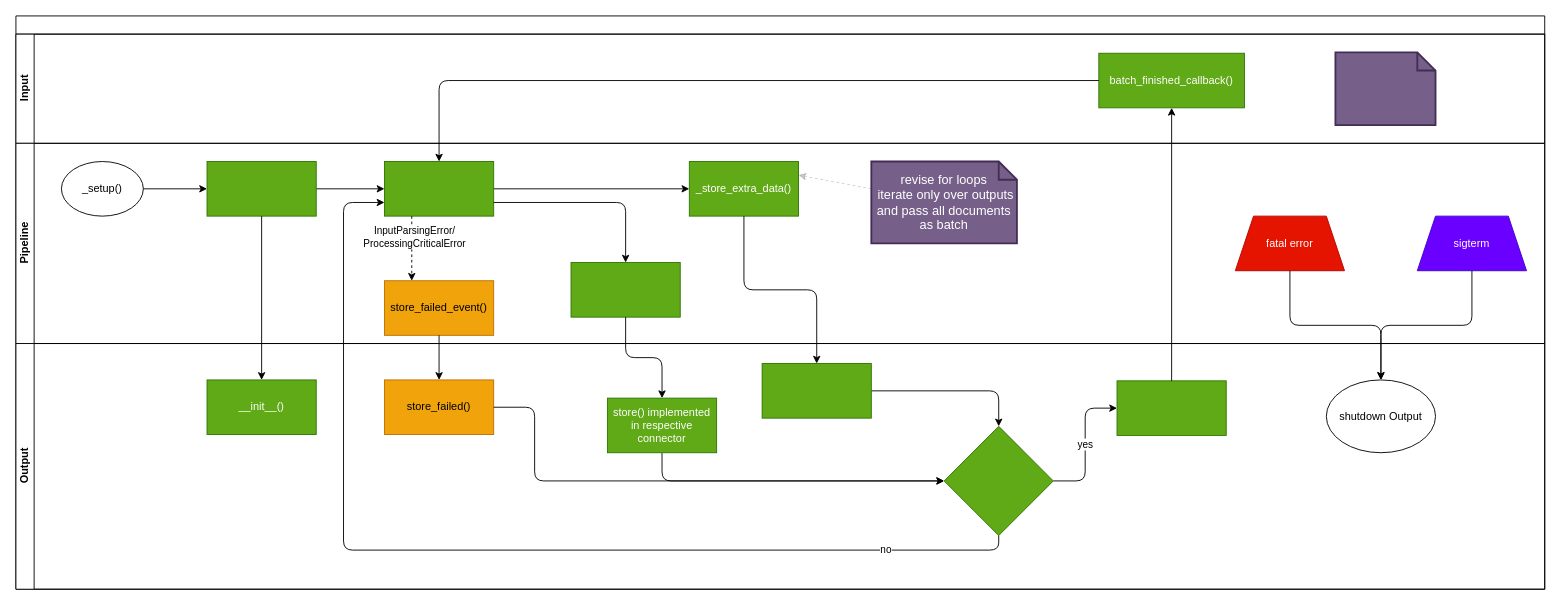
This 1561x605 diagram has some shape labels left out. Here are the shapes that lost their labels. From the top down, the box of each, then its label:
(1334, 51, 1436, 126): backlog not stored on shutdown
(206, 161, 316, 216): calls Factory.create()
(384, 161, 494, 216): processing of event
(570, 262, 680, 317): store_event()
(761, 363, 871, 418): store_custom()
(1116, 380, 1226, 435): write backlog
(943, 425, 1053, 536): backlog full?/ timeout exceeded
